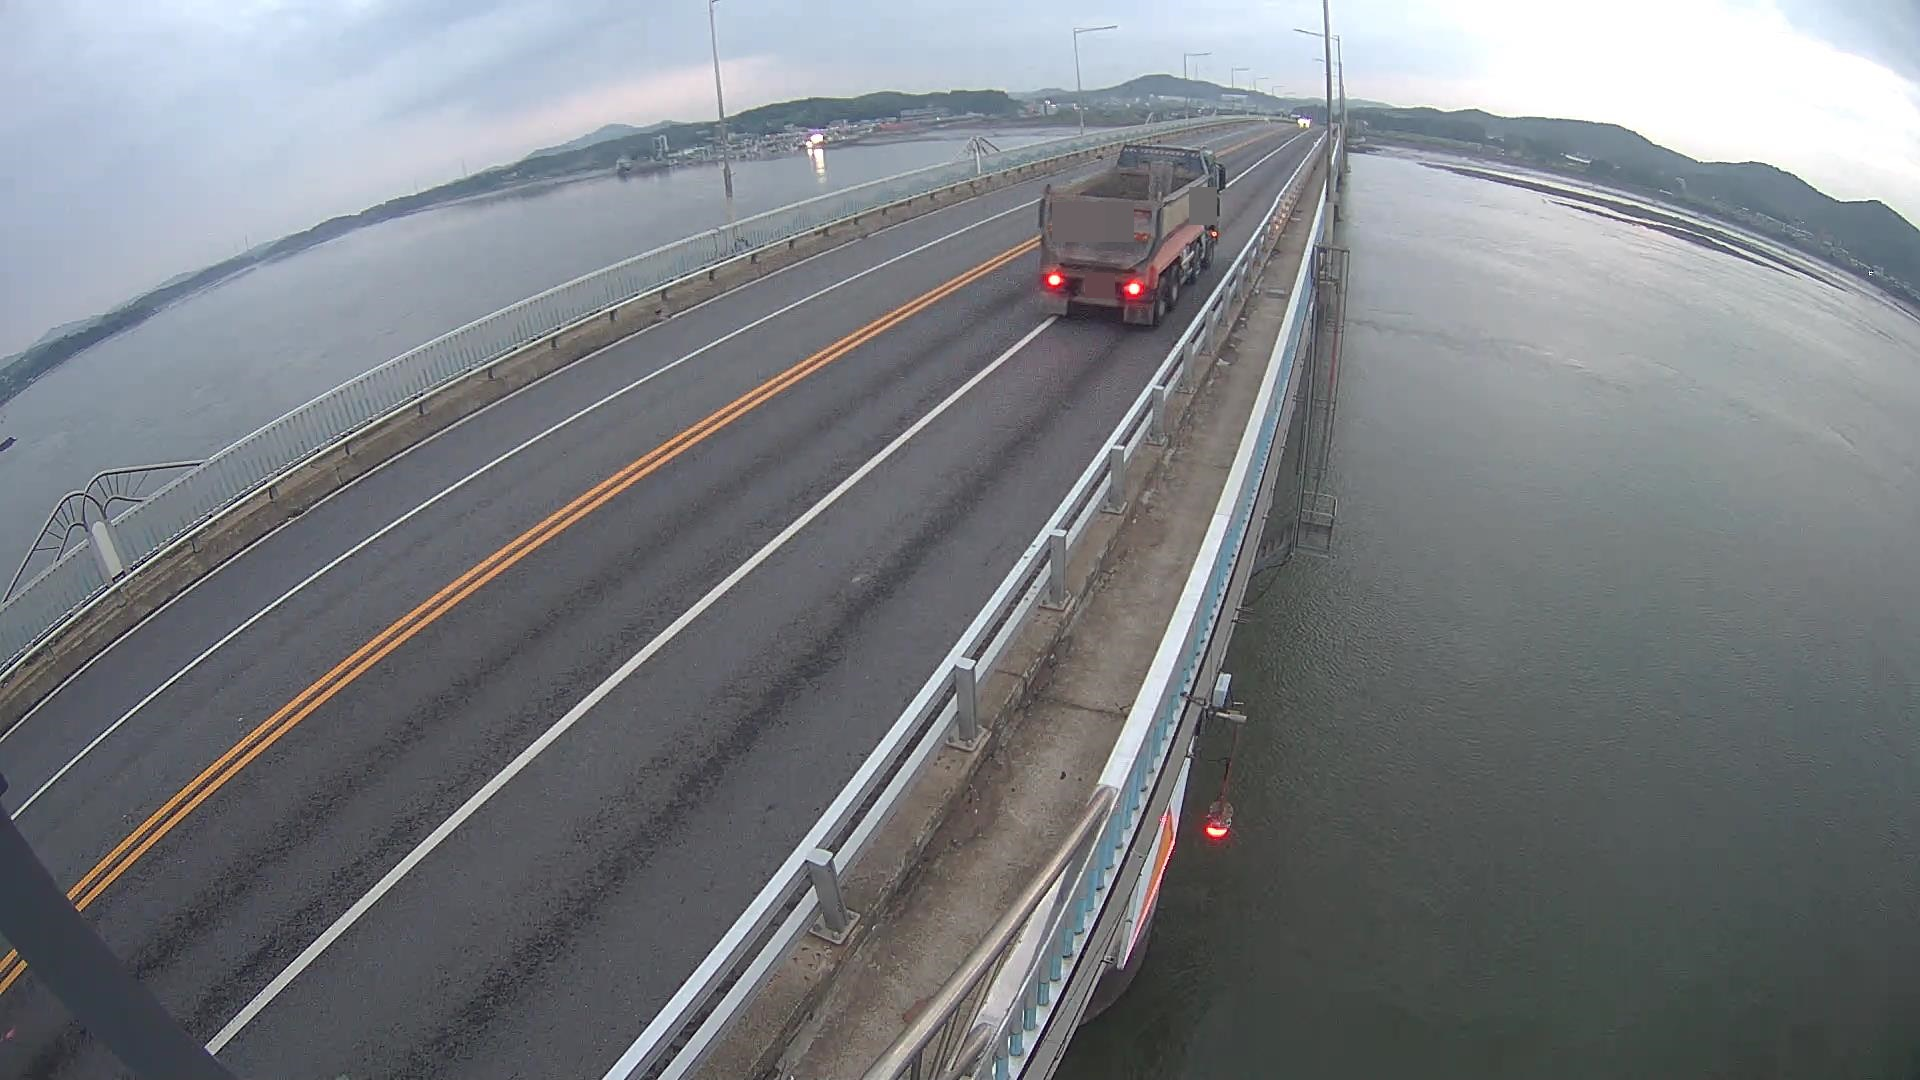정상차량: (1038, 144, 1225, 329)
